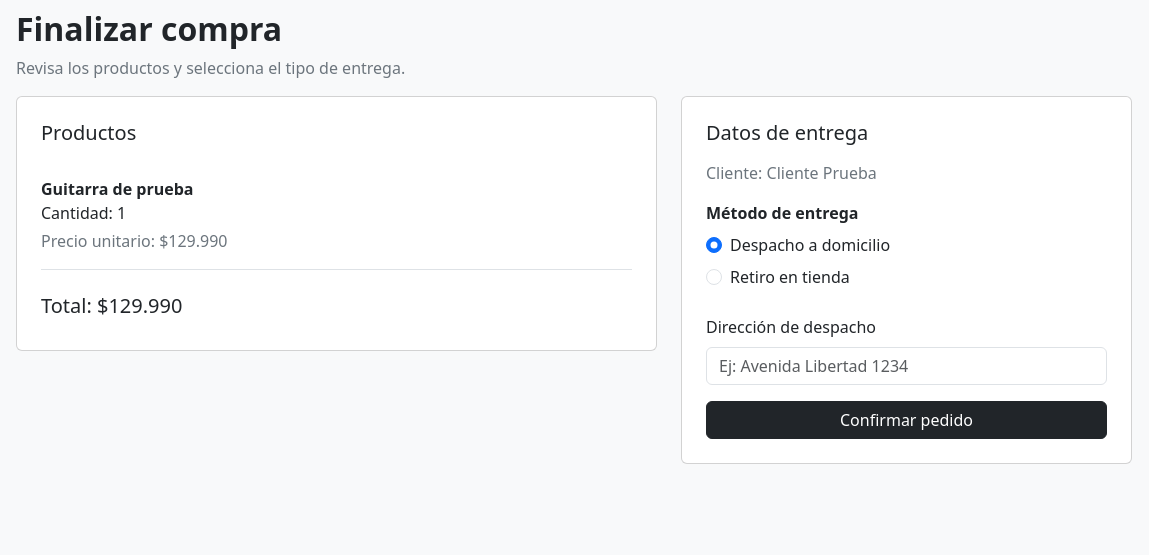
Test: Checkout conectado a pedidos de Spring Boot › no envia una compra con direccion invalida
Check: the button "Confirmar pedido" is enabled, box x1=706 y1=401 x2=1107 y2=439
In the field labelled "Dirección de despacho": (906, 366) x1=706 y1=347 x2=1107 y2=385, type "abc"
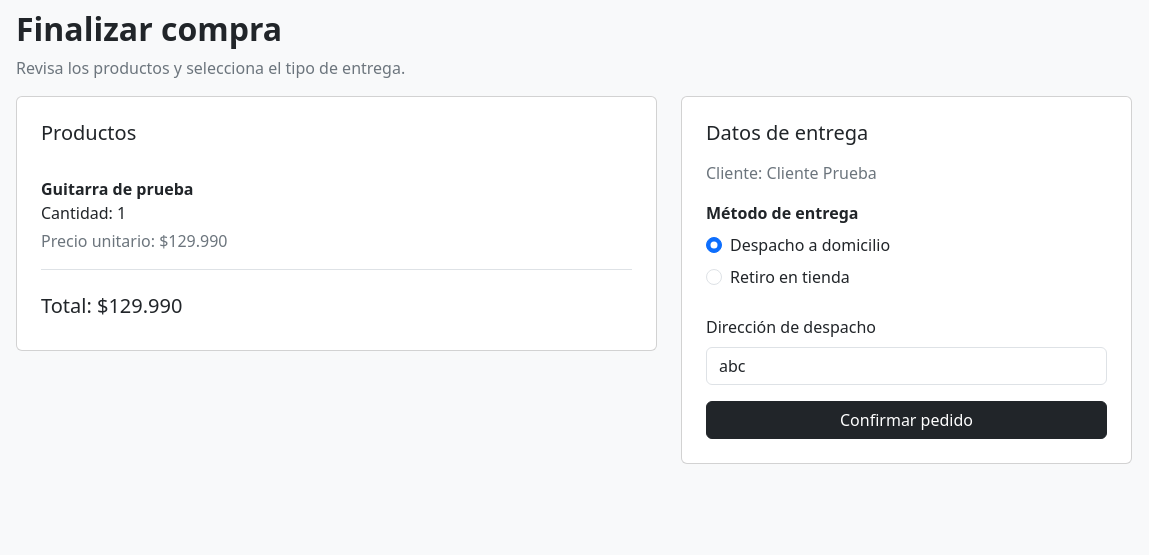
Submit the form named "Confirmar pedido", box x1=681 y1=96 x2=1132 y2=464
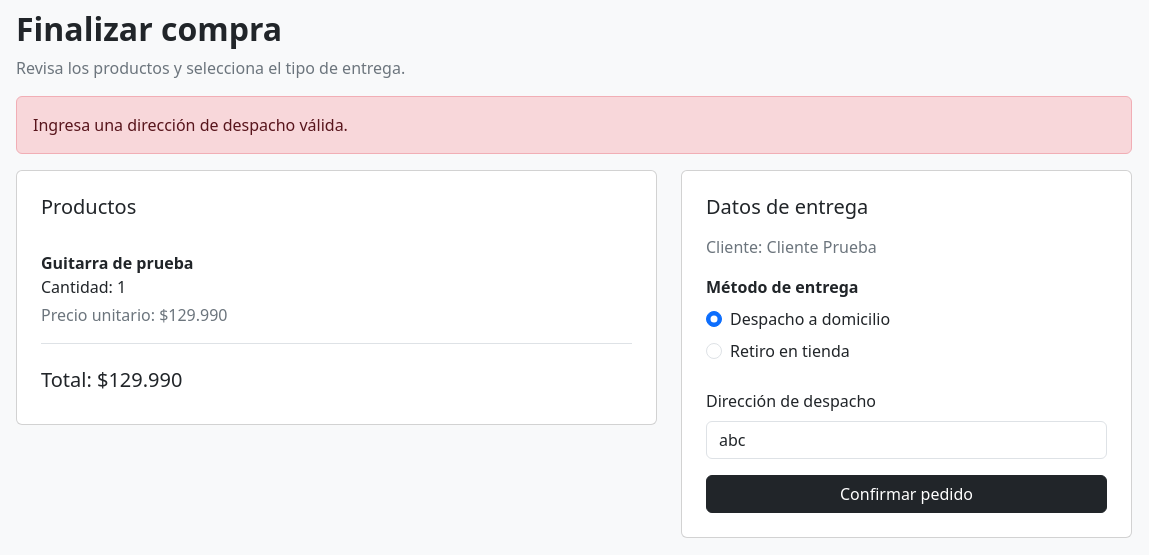
Check: the message shows "dirección de despacho válida", box x1=33 y1=114 x2=348 y2=136
